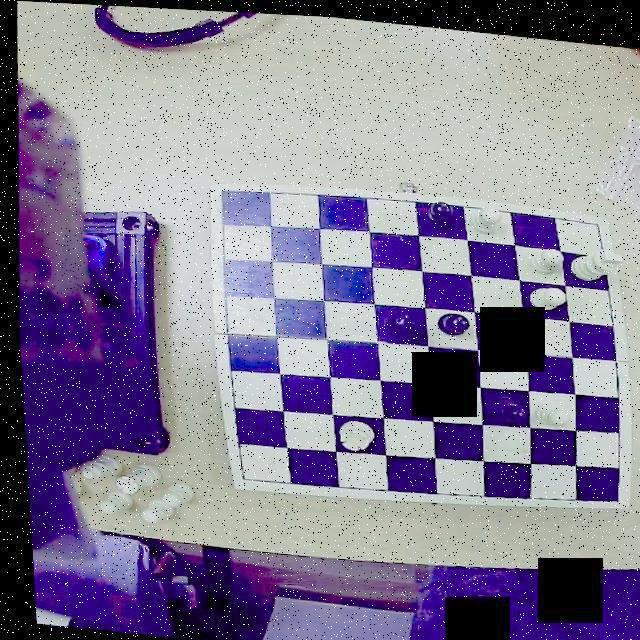chess-table-corners: (226, 454, 258, 486), (211, 182, 240, 214), (591, 474, 620, 504), (578, 210, 606, 234)
